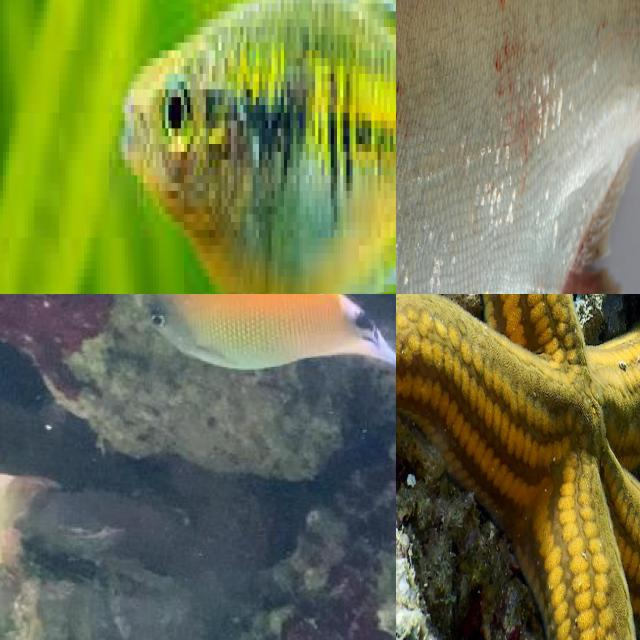fish: (0, 0, 396, 294), (396, 294, 640, 640), (396, 0, 640, 294), (131, 294, 396, 410)
